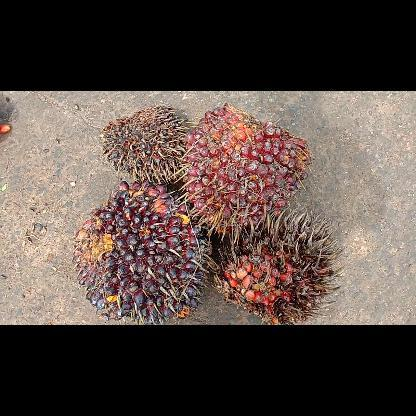Kurang masak: (70, 178, 212, 324)
TBS abnormal: (97, 102, 187, 186)
TBS masak: (183, 100, 313, 236)
Terlalu masak: (212, 210, 348, 324)
